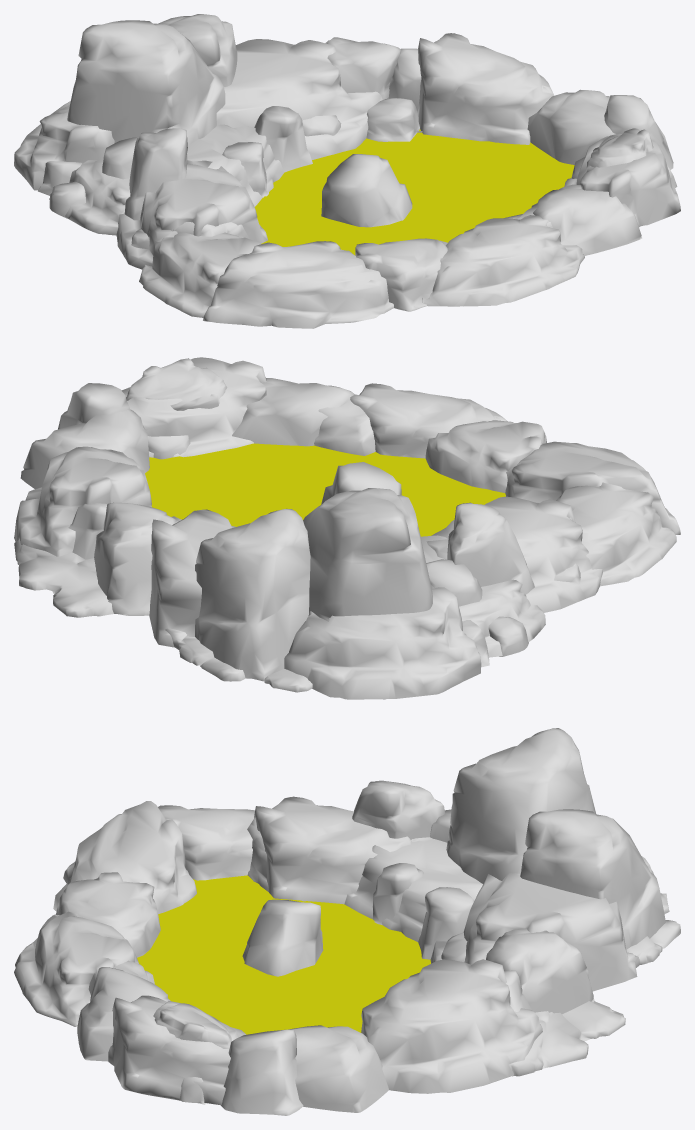
File: Homeworld_Exterior_Common_Thing_Fishpond_A_01_Lod0.fbx
3 views of the same model, one above another, from view 1: azimuth 30°, elevation 25°; view 2: azimuth 150°, elevation 25°; view 3: azimuth 270°, elevation 25° (orthographic). The views are drawn at different scales.
Parts seen in each view (by area): view 1: Homeworld_Exterior_Common_Thing_Fishpond_A_01_Lod0; view 2: Homeworld_Exterior_Common_Thing_Fishpond_A_01_Lod0; view 3: Homeworld_Exterior_Common_Thing_Fishpond_A_01_Lod0.
Part boxes in pixels (x1=…): Homeworld_Exterior_Common_Thing_Fishpond_A_01_Lod0: x1=14, y1=14, x2=680, y2=328; Homeworld_Exterior_Common_Thing_Fishpond_A_01_Lod0: x1=14, y1=357, x2=680, y2=699; Homeworld_Exterior_Common_Thing_Fishpond_A_01_Lod0: x1=14, y1=728, x2=680, y2=1115.
Size of the model in its own units: 26.08 by 6.45 by 25.79.
